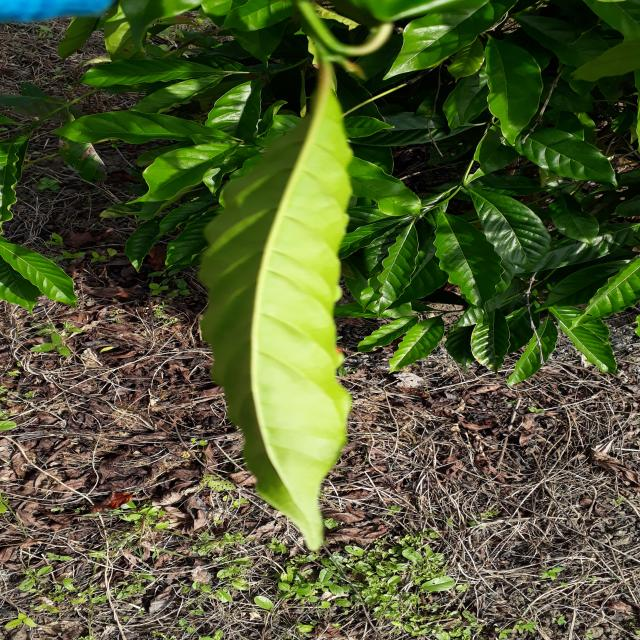Sanas: (198, 63, 354, 555)
